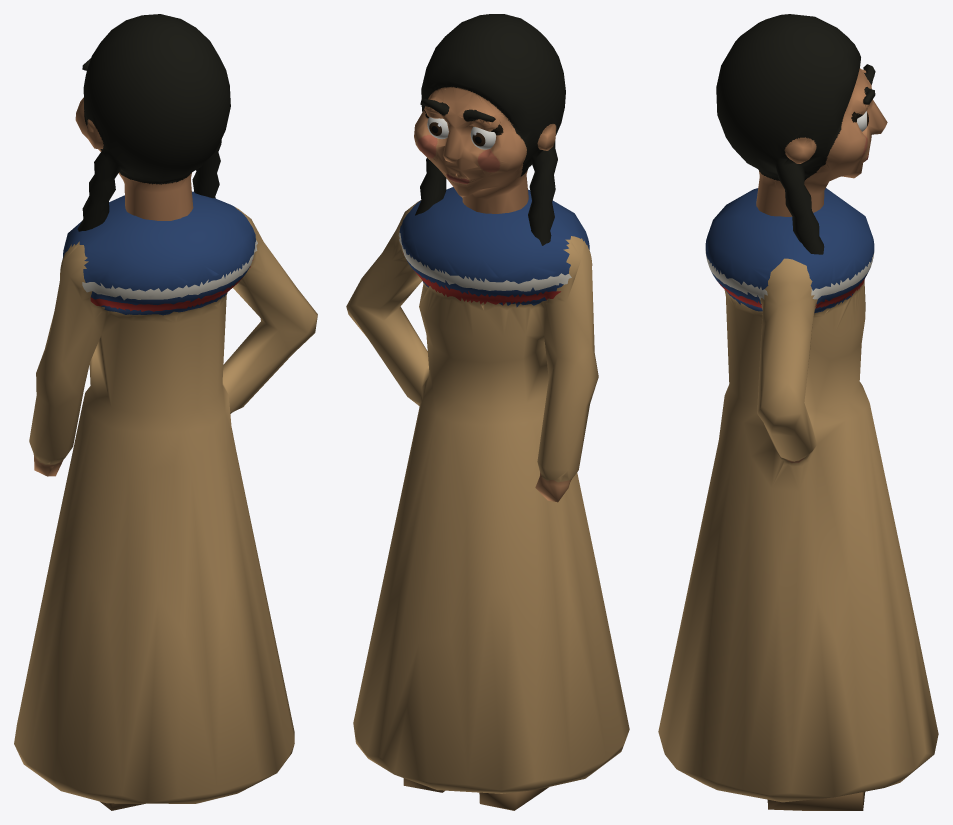
Rendered from wanbli.glb.
3 views of the same model, side by side, from view 1: azimuth 30°, elevation 25°; view 2: azimuth 150°, elevation 25°; view 3: azimuth 270°, elevation 25° (orthographic).
Parts seen in each view (by area): view 1: body_lod0, head_lod0; view 2: body_lod0, head_lod0; view 3: body_lod0, head_lod0.
Boxes of the visible parts, bbox=[...] form: body_lod0: bbox=[14, 191, 317, 810]; head_lod0: bbox=[75, 14, 230, 231]; body_lod0: bbox=[346, 187, 629, 810]; head_lod0: bbox=[414, 14, 565, 245]; body_lod0: bbox=[658, 188, 938, 810]; head_lod0: bbox=[716, 14, 887, 254].
Size of what is drawn, in the model's own units: 0.5511 by 1.48 by 0.4902.
